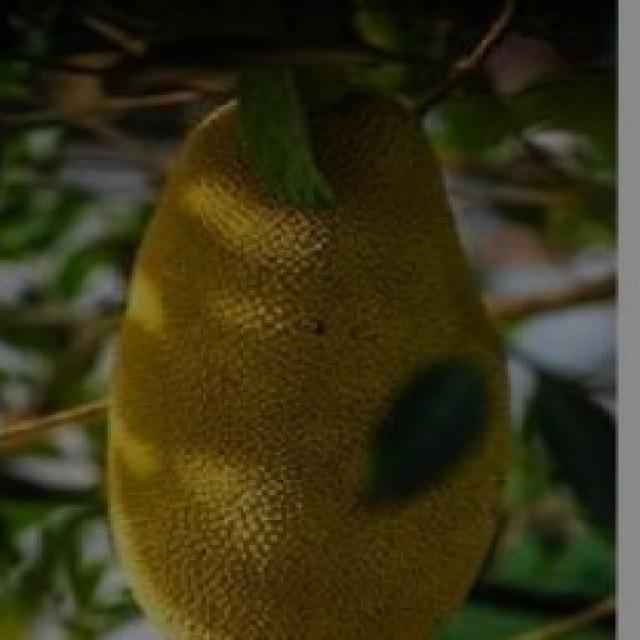Fruit: (64, 277, 486, 640)
